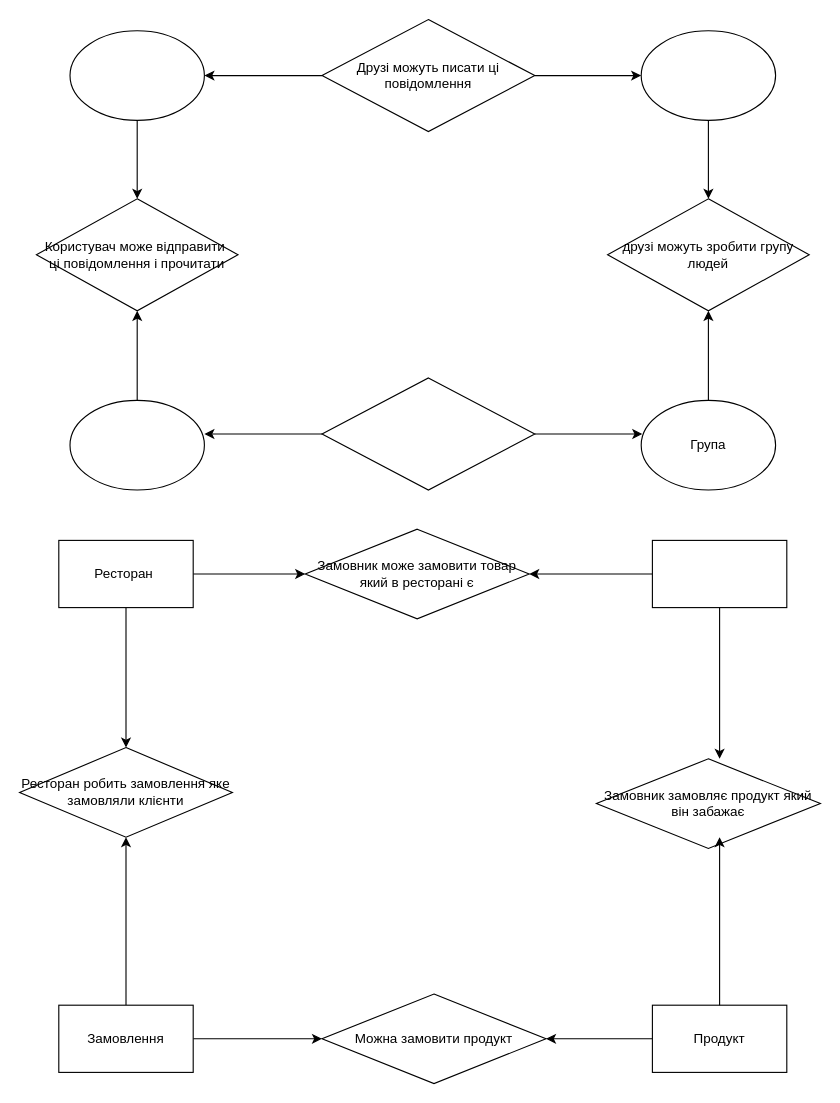
This 840x1103 diagram has some shape labels left out. Each missing label, with the centre of its shape:
Друзі: [708,75]
Замовник: [719,573]
Користувач: [136,444]
Користувач може створити цю групу і кирувти нею: [428,433]
Повідомлення: [136,75]
